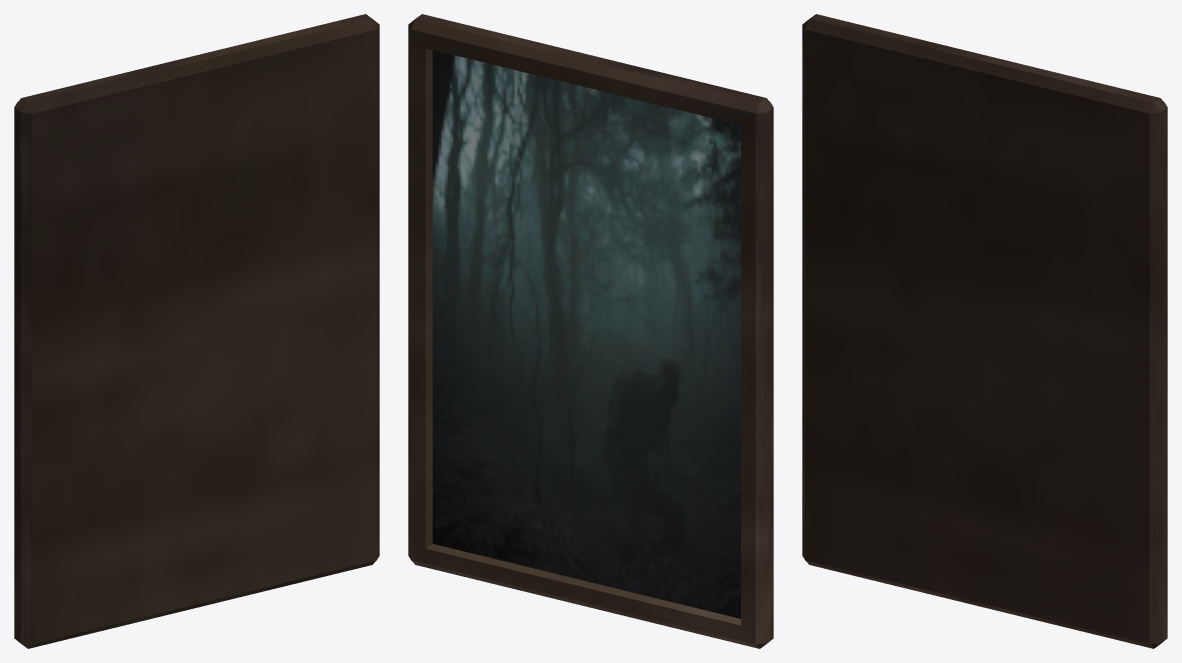
File: quadro2.fbx
The picture shows the model from 3 angles, left to right: view 1: azimuth 30°, elevation 25°; view 2: azimuth 150°, elevation 25°; view 3: azimuth 330°, elevation 25°; orthographic projection.
Parts seen in each view (by area): view 1: 2; view 2: 2; view 3: 2.
Part boxes in pixels (x1,y1,x2,y2): 2: [14, 14, 379, 648]; 2: [408, 14, 773, 648]; 2: [802, 14, 1167, 648].
Size of the model in its own units: 58.46 by 84.98 by 4.24.
Materials: 1 (1 with a texture image).
